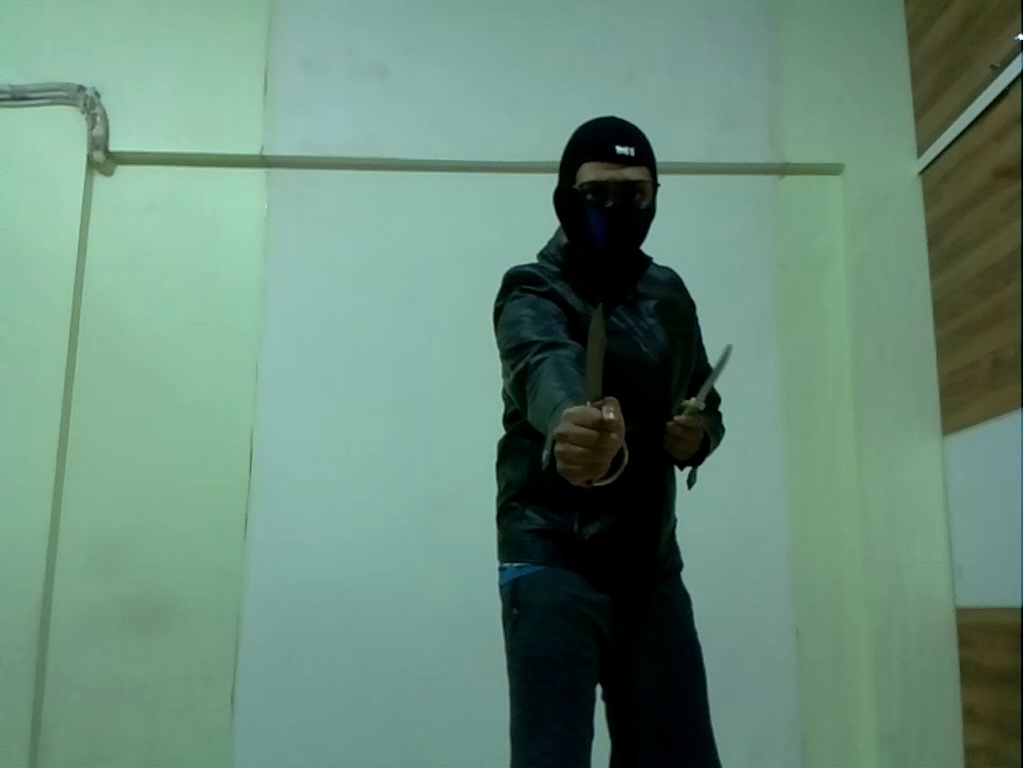knife: (584, 290, 613, 415)
